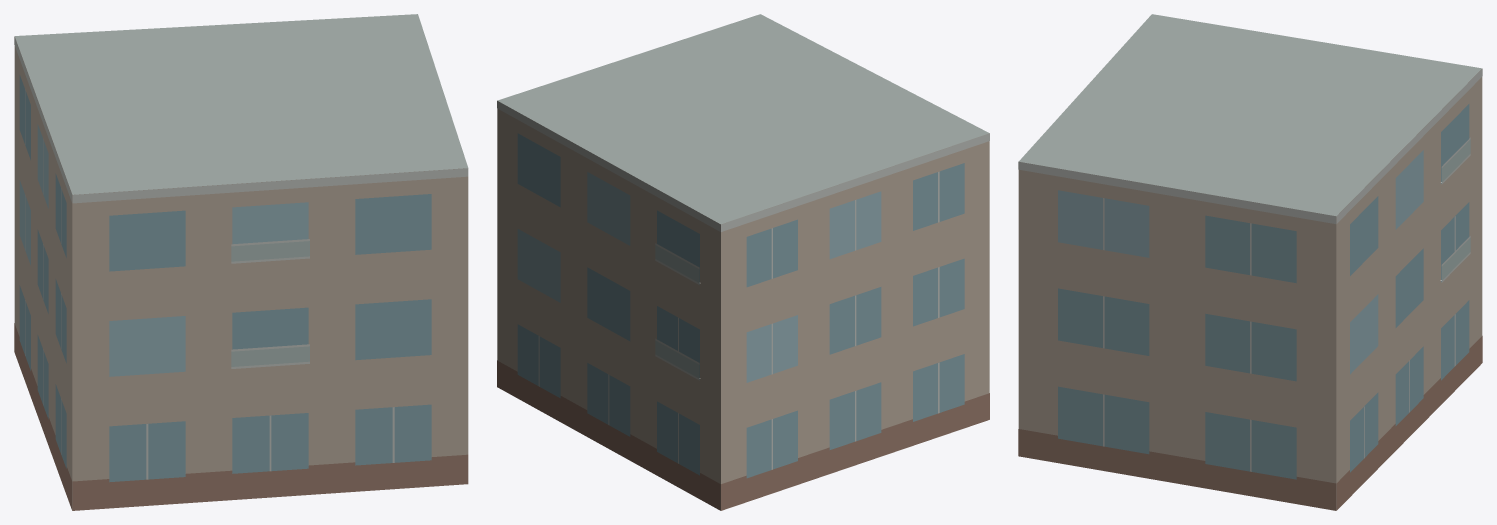
The model's file is survey-upis-32654518.glb.
3 renders of one model, left to right at view 1: azimuth 30°, elevation 25°; view 2: azimuth 150°, elevation 25°; view 3: azimuth 270°, elevation 25°, orthographic. The views are drawn at different scales.
Visible parts, largest first — view 1: survey-upis-32654518.tmp; view 2: survey-upis-32654518.tmp; view 3: survey-upis-32654518.tmp.
Boxes of the visible parts, box(x1,y1,x2,y2) form: survey-upis-32654518.tmp: box(14, 14, 468, 510); survey-upis-32654518.tmp: box(497, 14, 989, 510); survey-upis-32654518.tmp: box(1018, 14, 1482, 510).
Size of the model in its own units: 13.26 by 9 by 12.85.
